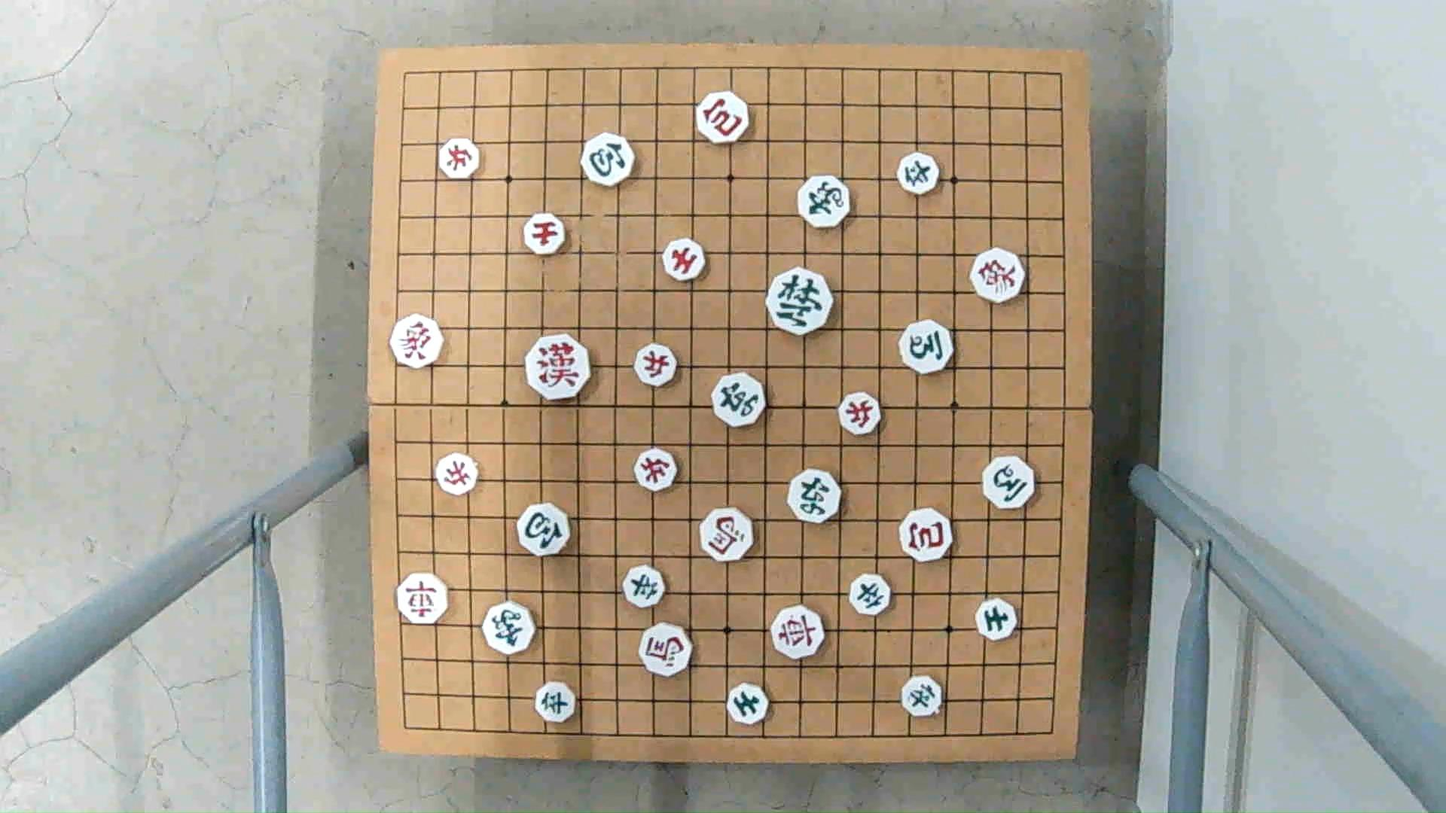cha_green: (786, 470, 844, 521), (711, 376, 769, 425)
cha_red: (770, 608, 828, 656), (397, 572, 447, 624)
jol_green: (895, 154, 941, 193), (847, 576, 894, 614), (898, 678, 944, 716), (624, 567, 664, 607), (535, 682, 576, 720)
jol_red: (838, 393, 881, 435), (436, 454, 479, 494), (635, 449, 678, 488), (636, 345, 677, 385), (438, 141, 479, 175)
ma_green: (900, 324, 956, 373), (983, 458, 1036, 508)
ma_red: (698, 511, 757, 562), (637, 626, 694, 674)
po_green: (515, 507, 574, 555), (583, 133, 634, 184)
po_red: (901, 512, 956, 561), (697, 94, 752, 142)
sa_green: (972, 600, 1018, 638), (726, 686, 767, 723)
sa_red: (660, 240, 707, 280), (522, 215, 569, 254)
sang_green: (482, 603, 533, 654), (801, 176, 850, 226)
sang_red: (967, 251, 1027, 301), (389, 318, 444, 366)
wang_green: (765, 274, 833, 329)
wang_red: (523, 338, 593, 394)
